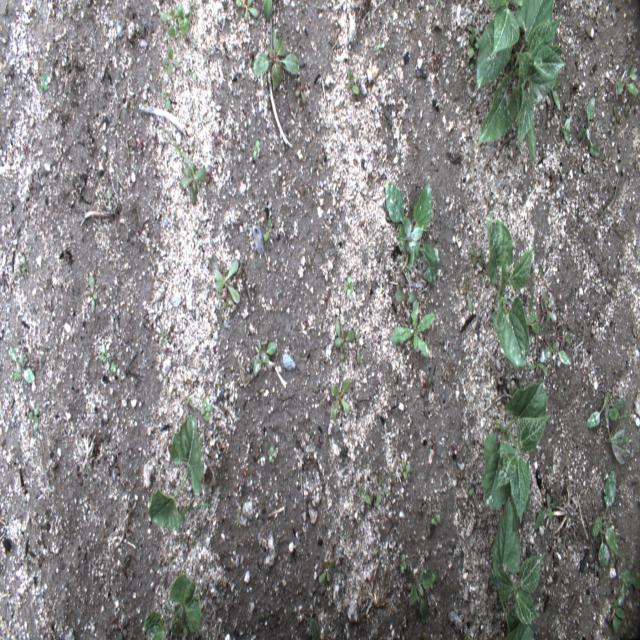crop: (465, 1, 567, 172), (482, 382, 550, 524), (486, 217, 542, 372), (488, 498, 546, 635), (148, 413, 204, 540), (383, 174, 441, 281), (141, 575, 203, 635)
weed: (249, 0, 300, 95), (388, 280, 437, 358), (588, 466, 620, 570), (586, 393, 632, 464), (166, 132, 212, 202), (610, 562, 638, 636), (535, 327, 575, 378), (406, 561, 438, 621), (5, 337, 40, 391), (249, 331, 282, 382), (531, 486, 564, 533), (332, 312, 361, 364), (92, 337, 126, 381), (211, 258, 242, 306), (609, 54, 638, 105), (158, 1, 197, 38), (578, 94, 600, 158), (326, 374, 353, 424), (24, 168, 44, 224), (289, 75, 310, 116), (317, 553, 341, 588), (557, 109, 577, 148), (538, 286, 557, 326), (459, 270, 476, 314), (414, 367, 437, 399), (425, 38, 444, 76), (260, 212, 282, 244), (354, 475, 374, 509), (227, 0, 259, 21), (346, 64, 364, 101), (468, 241, 486, 276), (99, 182, 122, 209), (12, 247, 29, 282), (393, 448, 412, 479), (163, 47, 179, 83), (27, 400, 43, 436), (86, 268, 98, 315), (238, 450, 252, 489), (375, 475, 389, 513), (425, 501, 444, 529), (395, 544, 410, 578), (160, 82, 178, 110), (431, 2, 446, 35), (155, 326, 174, 352), (343, 265, 358, 297), (251, 131, 265, 164), (35, 70, 54, 94), (197, 396, 212, 425), (130, 218, 144, 248), (127, 131, 145, 154), (182, 63, 198, 85), (371, 37, 385, 62), (264, 440, 278, 463), (182, 390, 196, 409), (188, 220, 202, 238), (465, 482, 476, 503), (212, 130, 222, 151)
